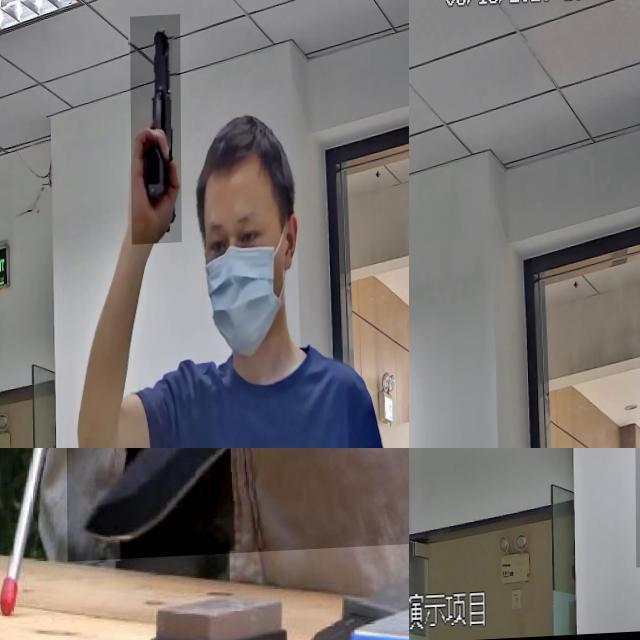-: (64, 448, 409, 622)
gun-knife-thesis - v11 Yolov5 augmented: (130, 18, 181, 248), (409, 326, 431, 448)
